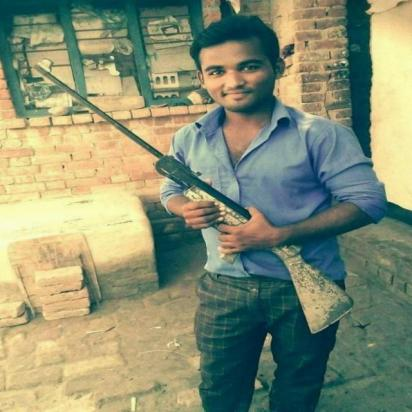Gun: (31, 56, 357, 336)
